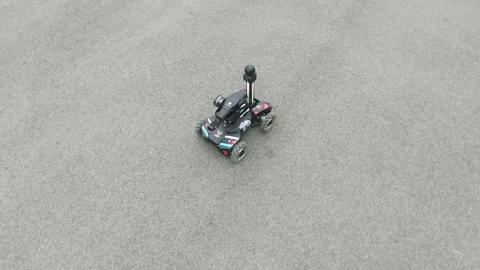chariot: (194, 63, 276, 164)
